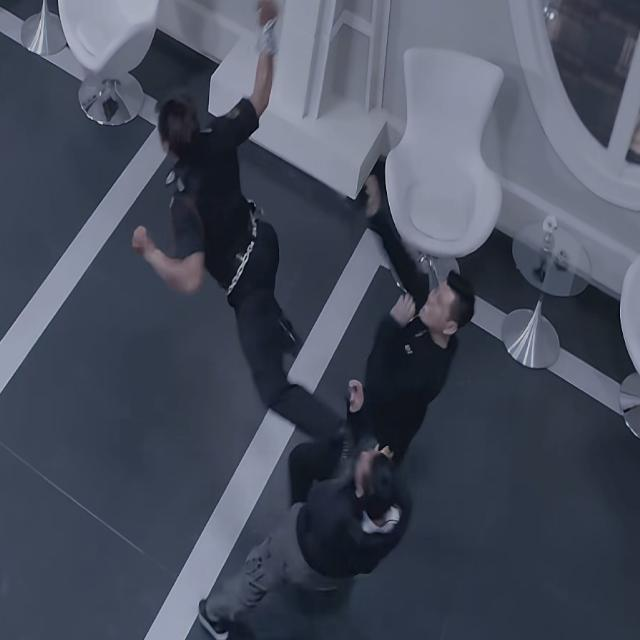fight: (130, 12, 479, 639)
